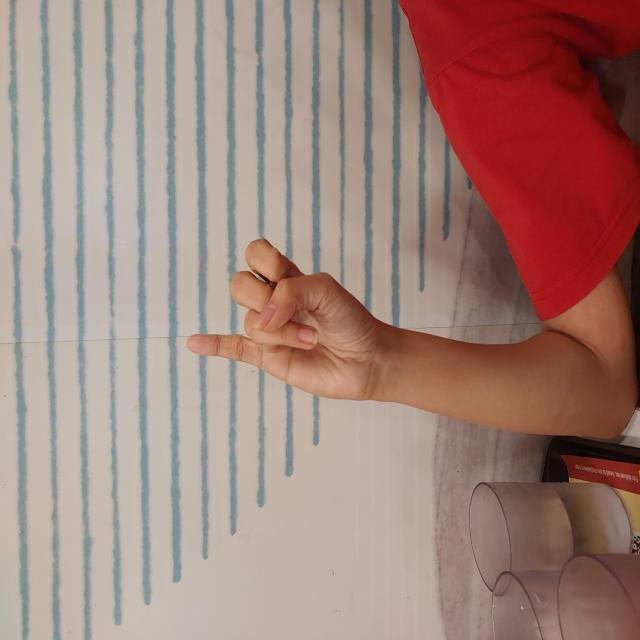I: (238, 184, 404, 380)
